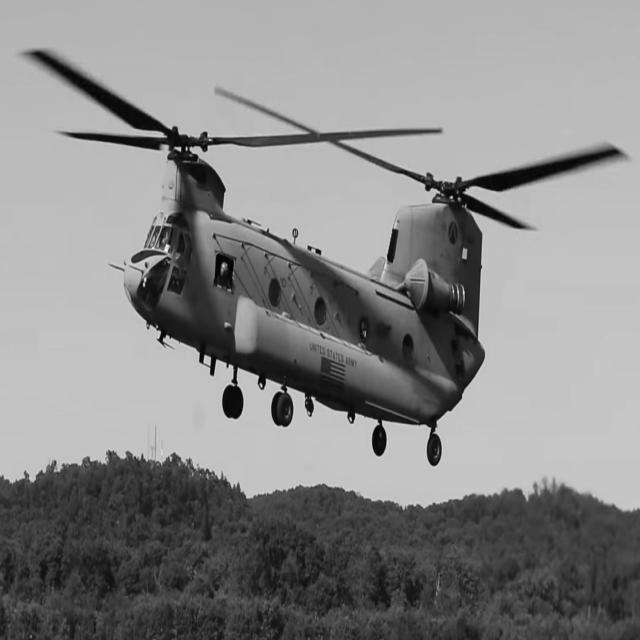Helicopter: (27, 50, 624, 465)
